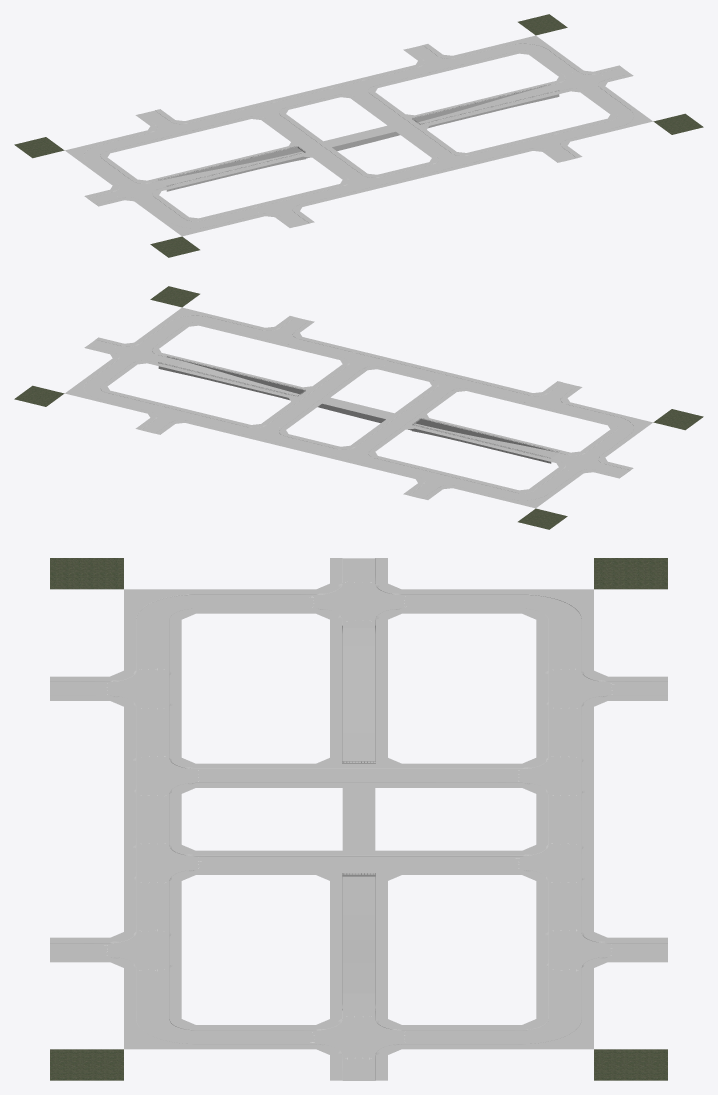
Rendered from Double-Block-10.fbx.
3 renders of one model, top to bottom at view 1: azimuth 30°, elevation 25°; view 2: azimuth 150°, elevation 25°; view 3: azimuth 270°, elevation 25°, orthographic. The views are drawn at different scales.
Parts seen in each view (by area): view 1: Double-Block-10, Double-Block-10-B, Double-Block-10-Sidewalk-B, Double-Block-10-Sidewalk; view 2: Double-Block-10, Double-Block-10-B, Double-Block-10-Sidewalk-B, Double-Block-10-Sidewalk; view 3: Double-Block-10, Double-Block-10-B, Double-Block-10-Sidewalk, Double-Block-10-Sidewalk-B.
Boxes of the visible parts, x1,y1,x2,y2 form: Double-Block-10: (14,95,414,257); Double-Block-10-B: (303,14,703,176); Double-Block-10-Sidewalk-B: (301,35,652,178); Double-Block-10-Sidewalk: (65,93,417,236); Double-Block-10: (303,367,703,529); Double-Block-10-B: (14,286,414,448); Double-Block-10-Sidewalk-B: (65,307,416,450); Double-Block-10-Sidewalk: (300,365,652,508); Double-Block-10: (50,558,667,820); Double-Block-10-B: (50,819,667,1080); Double-Block-10-Sidewalk: (50,558,667,819); Double-Block-10-Sidewalk-B: (50,819,667,1080).
Size of what is drawn, in the model's own units: 600 by 7.87 by 300.
